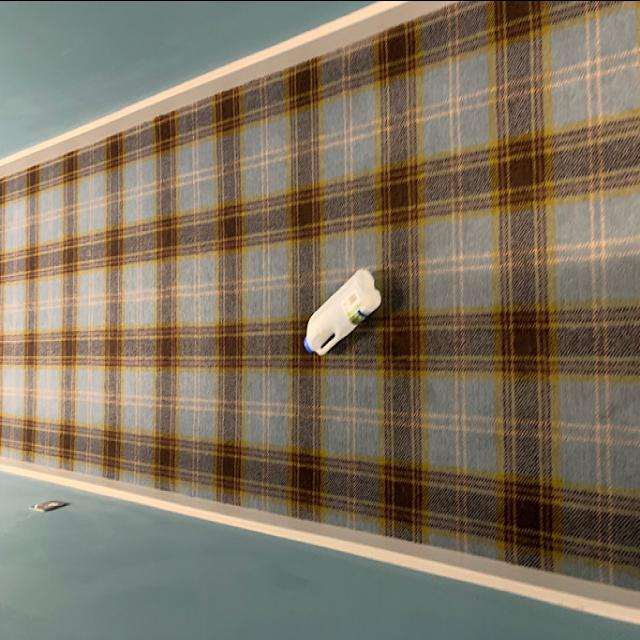litter: (304, 262, 384, 356)
